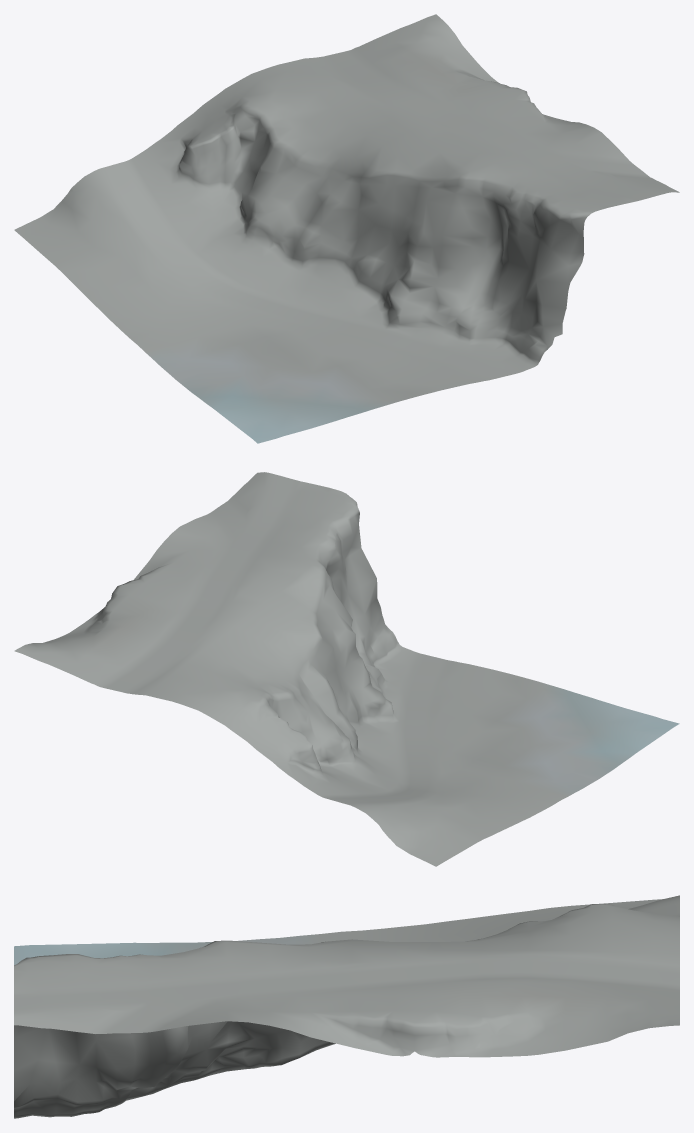
3 views of the same model, one above another, from view 1: azimuth 30°, elevation 25°; view 2: azimuth 150°, elevation 25°; view 3: azimuth 270°, elevation 25° (orthographic). The views are drawn at different scales.
Visible parts, largest first — view 1: G:\FFXIV-MapTools\exports\s1f2\bg\ffxiv\sea_s1\fld\s1f2\bgpl (×13); view 2: G:\FFXIV-MapTools\exports\s1f2\bg\ffxiv\sea_s1\fld\s1f2\bgpl (×12); view 3: G:\FFXIV-MapTools\exports\s1f2\bg\ffxiv\sea_s1\fld\s1f2\bgpl (×14).
Part boxes in pixels (bbox=[...]): G:\FFXIV-MapTools\exports\s1f2\bg\ffxiv\sea_s1\fld\s1f2\bgpl (×13): bbox=[14, 14, 679, 443]; G:\FFXIV-MapTools\exports\s1f2\bg\ffxiv\sea_s1\fld\s1f2\bgpl (×12): bbox=[14, 472, 679, 866]; G:\FFXIV-MapTools\exports\s1f2\bg\ffxiv\sea_s1\fld\s1f2\bgpl (×14): bbox=[14, 895, 679, 1118].
Bounding box in the file's own units: 128 × 43.79 × 128.
